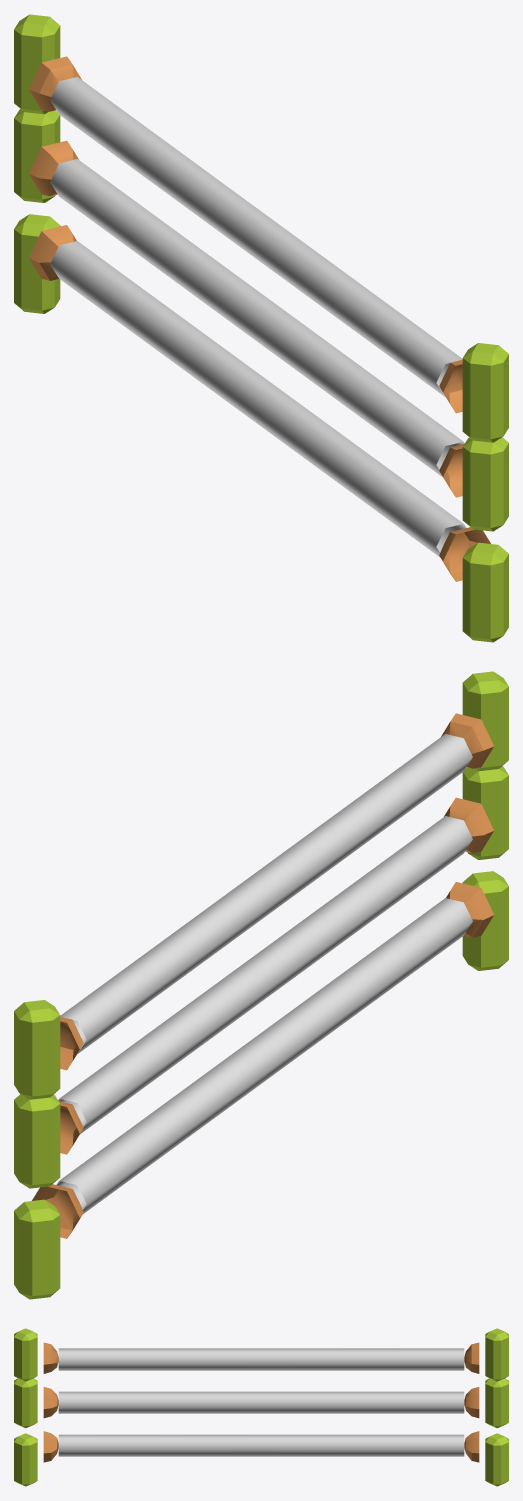
The model's file is Electro.fbx.
3 views of the same model, one above another, from view 1: azimuth 30°, elevation 25°; view 2: azimuth 150°, elevation 25°; view 3: azimuth 270°, elevation 25° (orthographic). The views are drawn at different scales.
Parts seen in each view (by area): view 1: Electro_vfx_mesh, Electro_wall1, Electro_wall2; view 2: Electro_vfx_mesh, Electro_wall2, Electro_wall1; view 3: Electro_vfx_mesh, Electro_wall1, Electro_wall2.
Part boxes in pixels (x1,y1,x2,y2): Electro_vfx_mesh: (50, 77, 466, 556); Electro_wall1: (439, 343, 508, 642); Electro_wall2: (14, 14, 81, 313); Electro_vfx_mesh: (56, 734, 472, 1213); Electro_wall2: (14, 1000, 83, 1299); Electro_wall1: (441, 671, 508, 970); Electro_vfx_mesh: (58, 1348, 464, 1456); Electro_wall1: (14, 1328, 58, 1486); Electro_wall2: (464, 1328, 508, 1486).
Size of the model in its own units: 0.3743 by 1.49 by 4.41.
